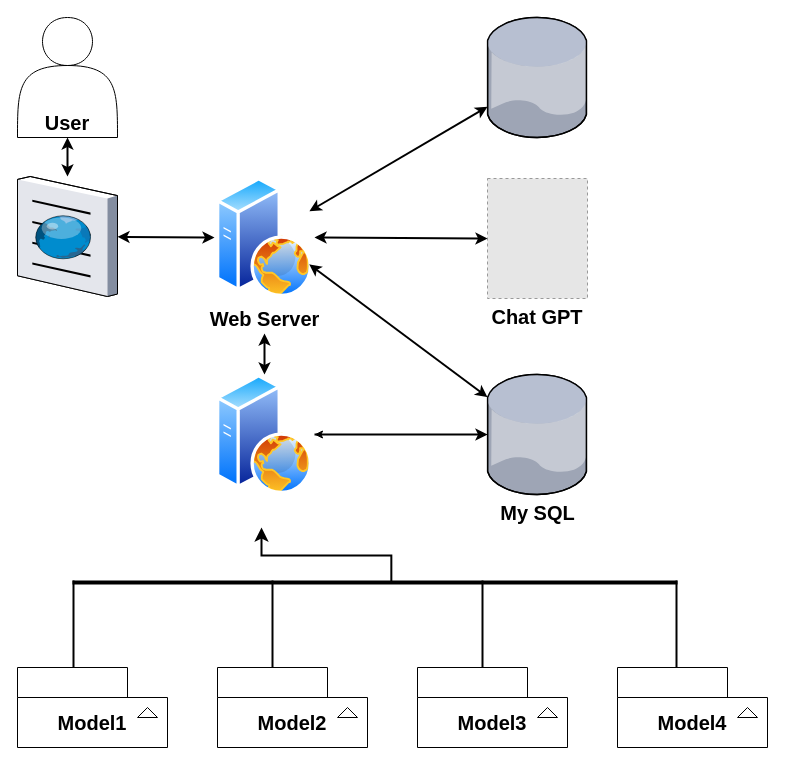
This 785x765 diagram has some shape labels left out. Grey dashed boxes stand in for pictures. Each missing label, with the box of its shape:
API Server: (214, 374, 314, 494)
Vector DB: (487, 17, 587, 137)
Web Page: (17, 176, 117, 296)
